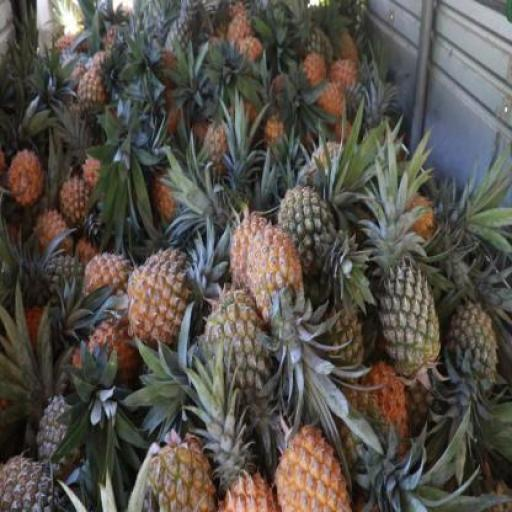------------------------------: (202, 290, 273, 400), (276, 188, 340, 287), (145, 443, 217, 512), (75, 70, 108, 128)
Pineapple - v8 v1: (270, 422, 350, 511), (126, 245, 196, 346), (247, 228, 308, 330), (229, 214, 277, 302), (84, 248, 130, 310), (58, 173, 96, 227), (7, 147, 40, 206)
